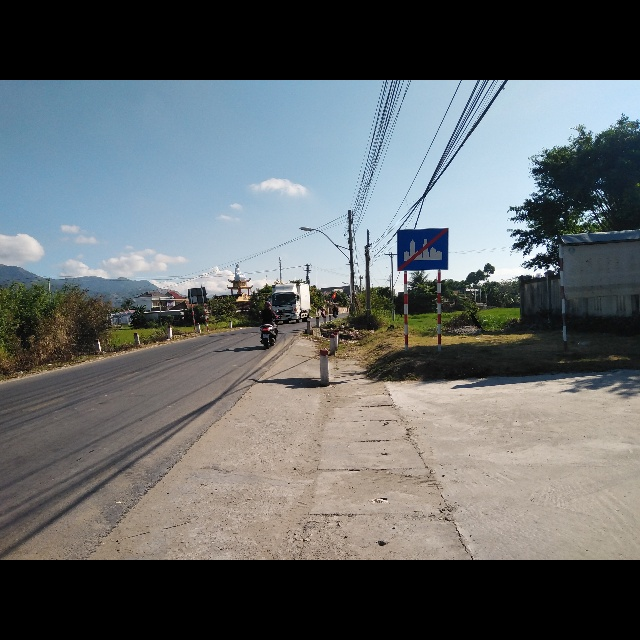Hết khu đông dân cư: (396, 228, 450, 271)
